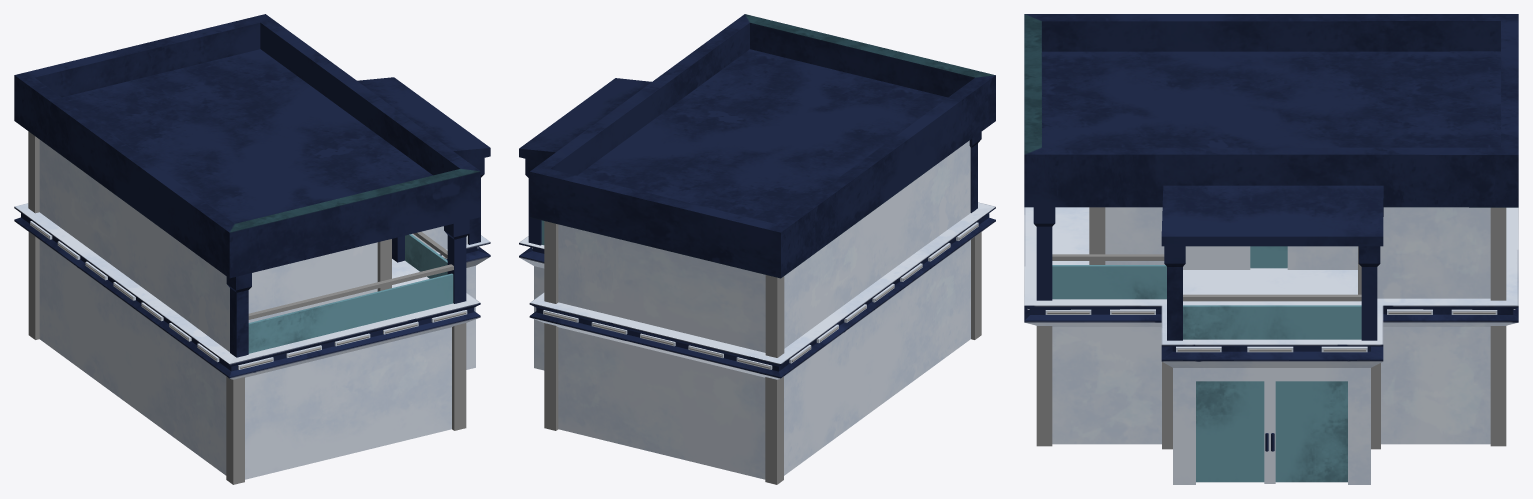
The model's file is SM_TeknoBuilding.fbx.
3 views of the same model, side by side, from view 1: azimuth 30°, elevation 25°; view 2: azimuth 150°, elevation 25°; view 3: azimuth 270°, elevation 25° (orthographic). The views are drawn at different scales.
Visible parts, largest first — view 1: SM_TeknoBuilding; view 2: SM_TeknoBuilding; view 3: SM_TeknoBuilding.
Boxes of the visible parts, box(x1,y1,x2,y2) form: SM_TeknoBuilding: box(14, 14, 490, 484); SM_TeknoBuilding: box(519, 14, 995, 484); SM_TeknoBuilding: box(1024, 14, 1518, 484).
Size of the model in its own units: 107 by 82.04 by 124.
